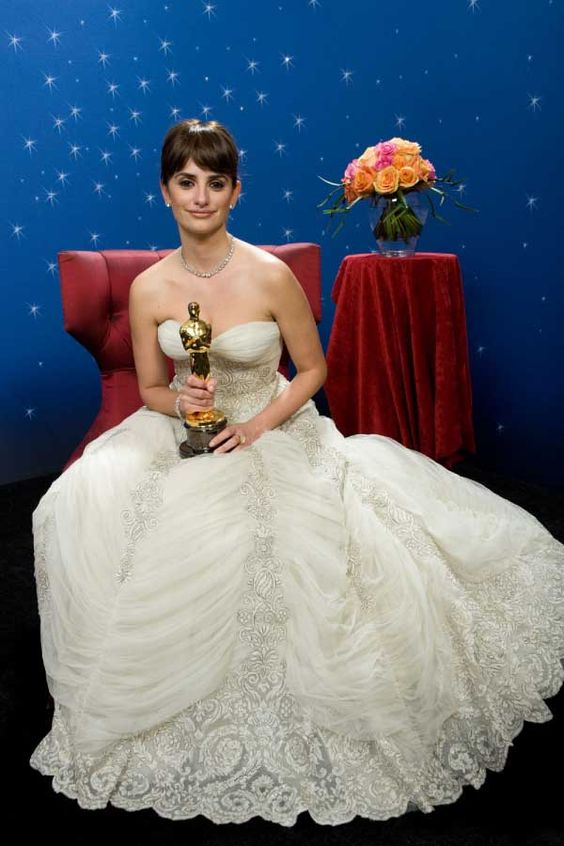hand: (179, 377, 214, 416)
